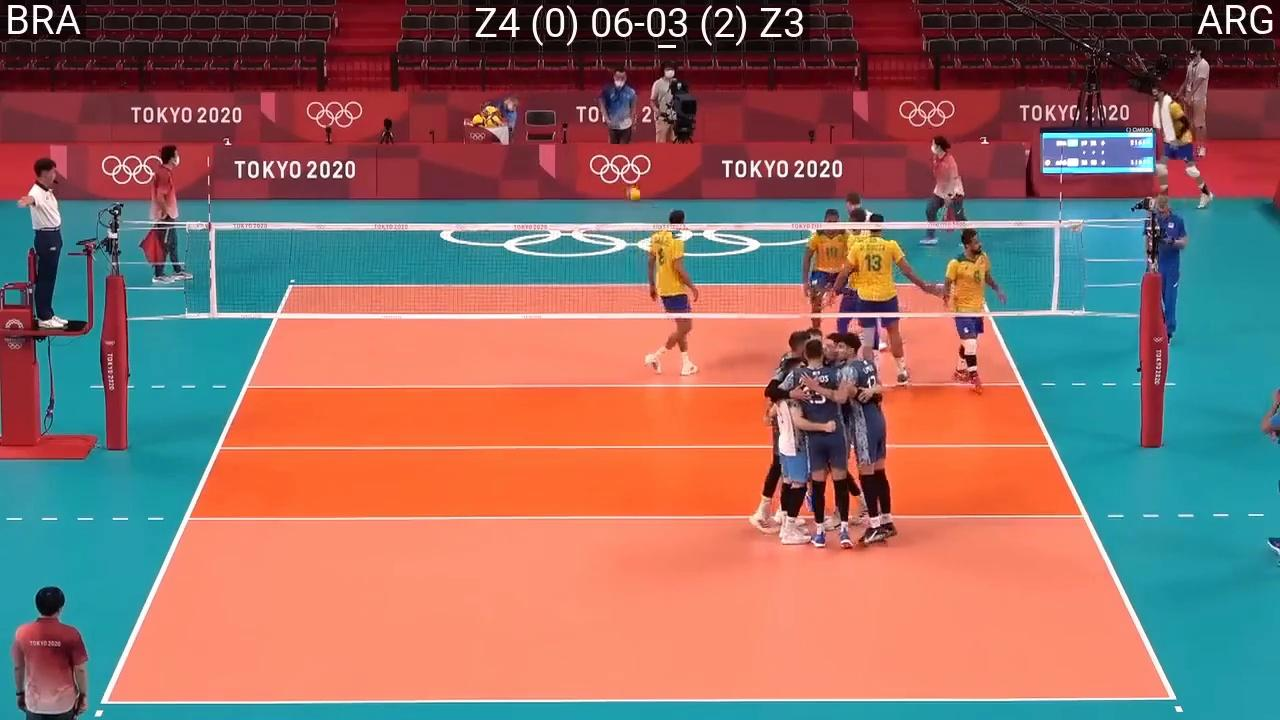ball: (625, 187, 642, 201)
